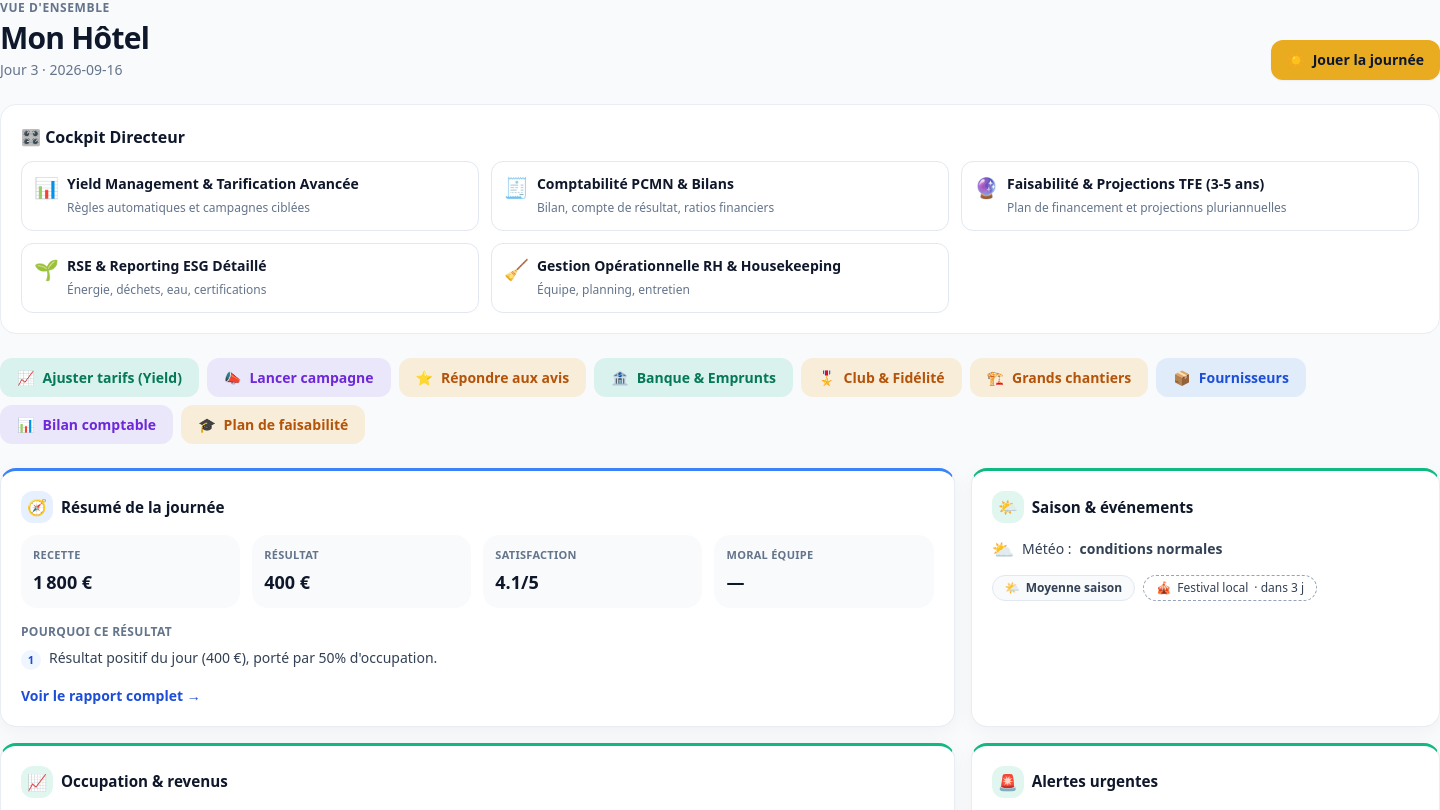
Dashboard / loyalty club › closes
The image size is (1440, 810).
Click the button with test id "quick-loyalty" at (881, 378), box 801,358 -> 962,397
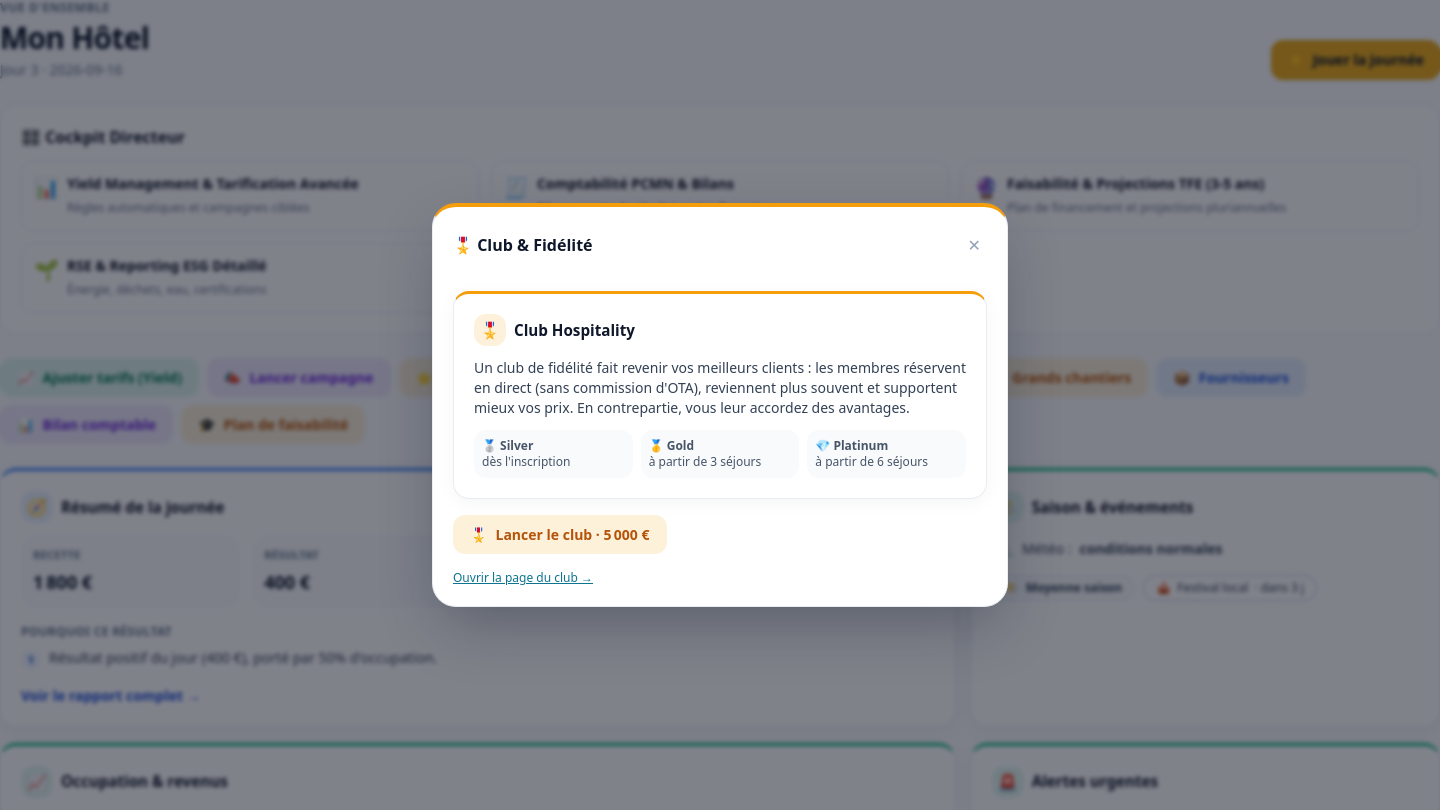
Click the button named "fermer" at (974, 245), box 962,227 -> 987,263
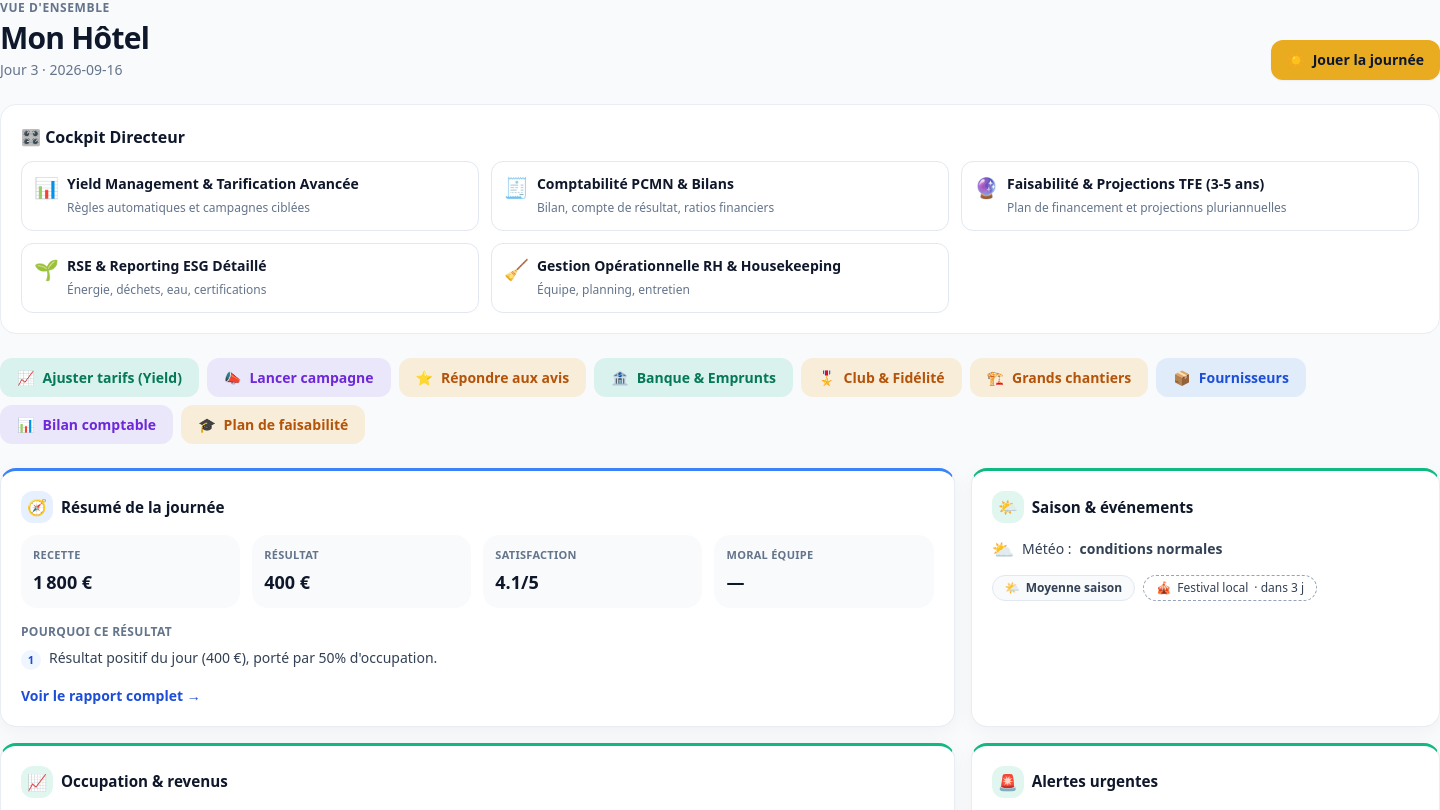
Result: the dialog is gone
